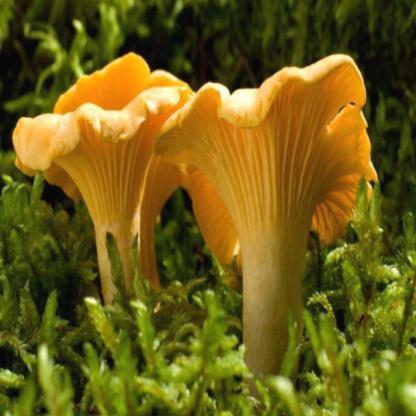chanterelle: (154, 53, 376, 399), (12, 51, 197, 311)
